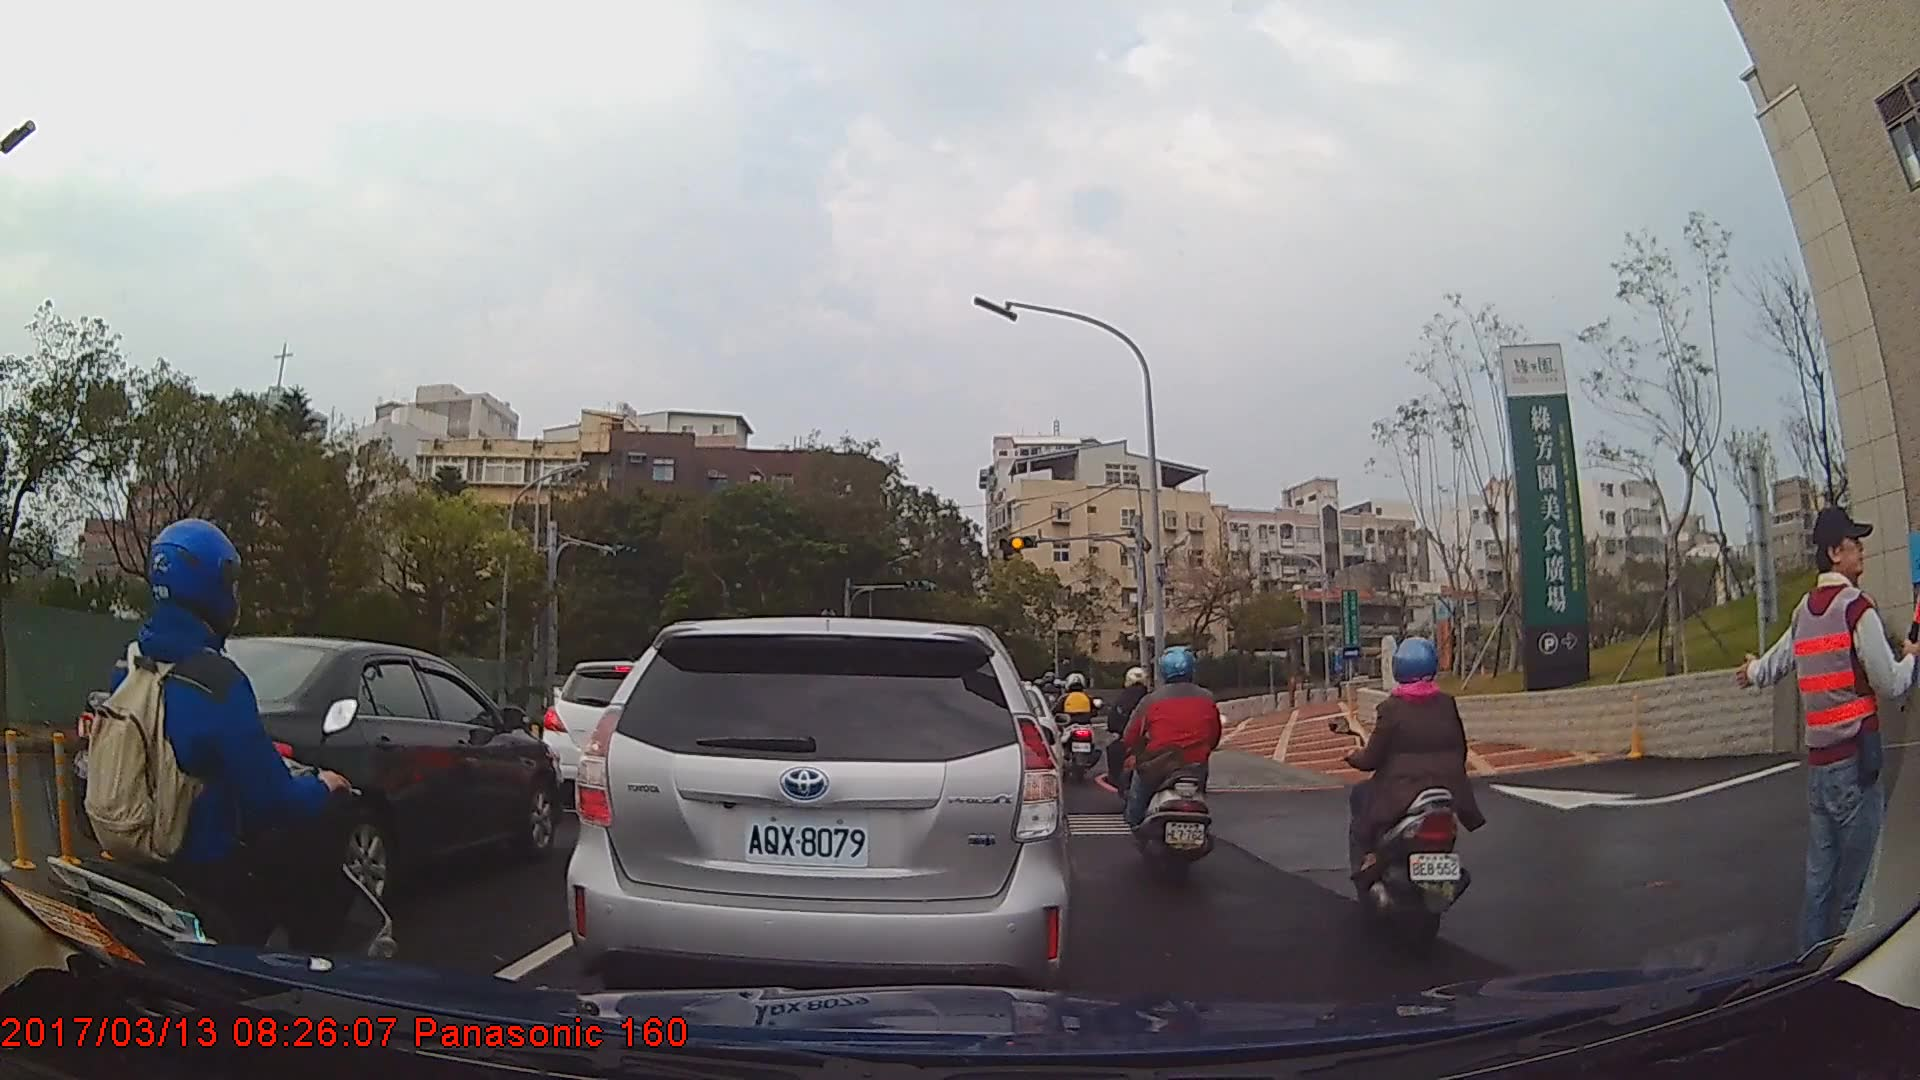pedestrian: (1737, 500, 1918, 979)
rider: (41, 518, 399, 1080), (1342, 634, 1473, 961), (1121, 646, 1217, 879), (1108, 662, 1162, 808), (1060, 669, 1104, 783)
vehicle: (565, 613, 1077, 1000), (68, 633, 562, 908), (544, 658, 703, 804)
